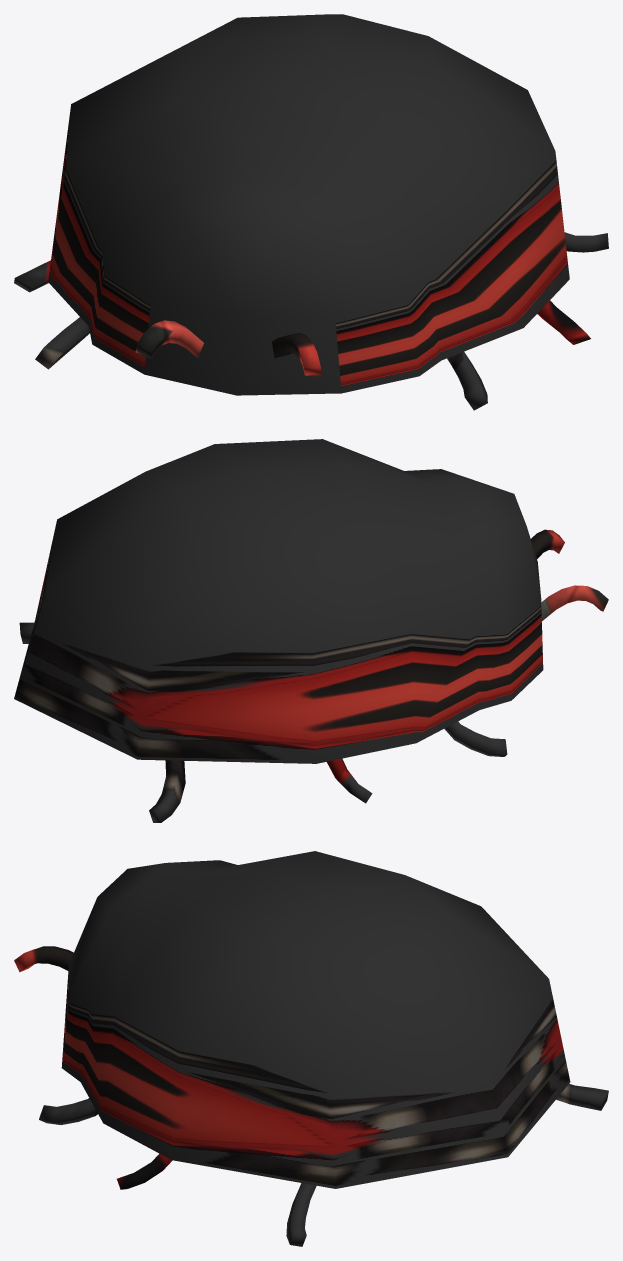
The model's file is ladybug.FBX.
3 views of the same model, one above another, from view 1: azimuth 30°, elevation 25°; view 2: azimuth 150°, elevation 25°; view 3: azimuth 270°, elevation 25° (orthographic). The views are drawn at different scales.
Parts seen in each view (by area): view 1: ladybug001; view 2: ladybug001; view 3: ladybug001.
Boxes of the visible parts, left/top/right/bottom form: ladybug001: left=14, top=14, right=608, bottom=410; ladybug001: left=14, top=439, right=608, bottom=822; ladybug001: left=14, top=851, right=608, bottom=1246.
Bounding box in the file's own units: 1.22 × 0.5533 × 1.25.
